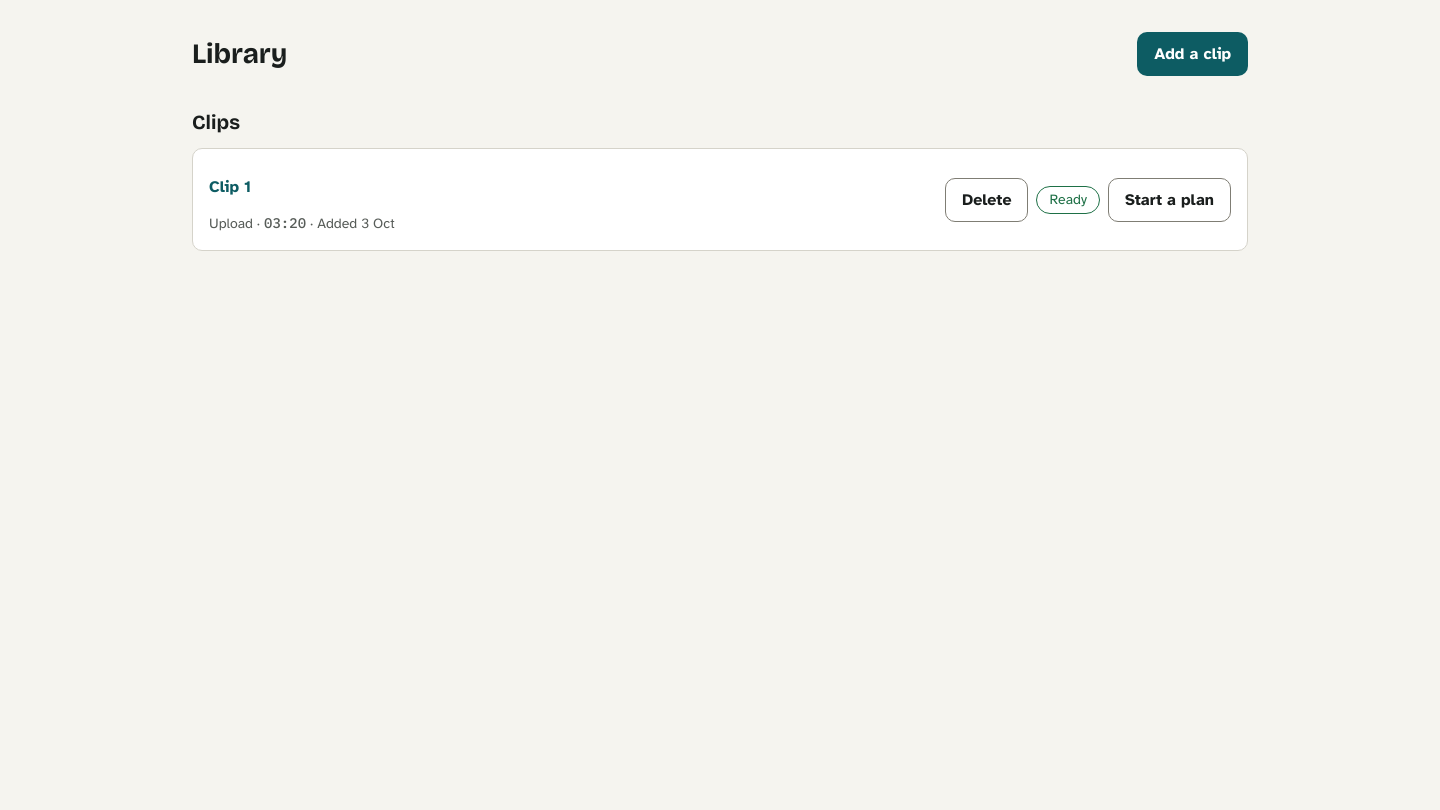
Test case: confirmed deletion hides the clip and announces background cleanup
What coordinates should you click on to do the following:
click the button with aria-label "Delete Clip 1"
I would click on:
 (987, 200)
Its box is left=945, top=178, right=1028, bottom=222.
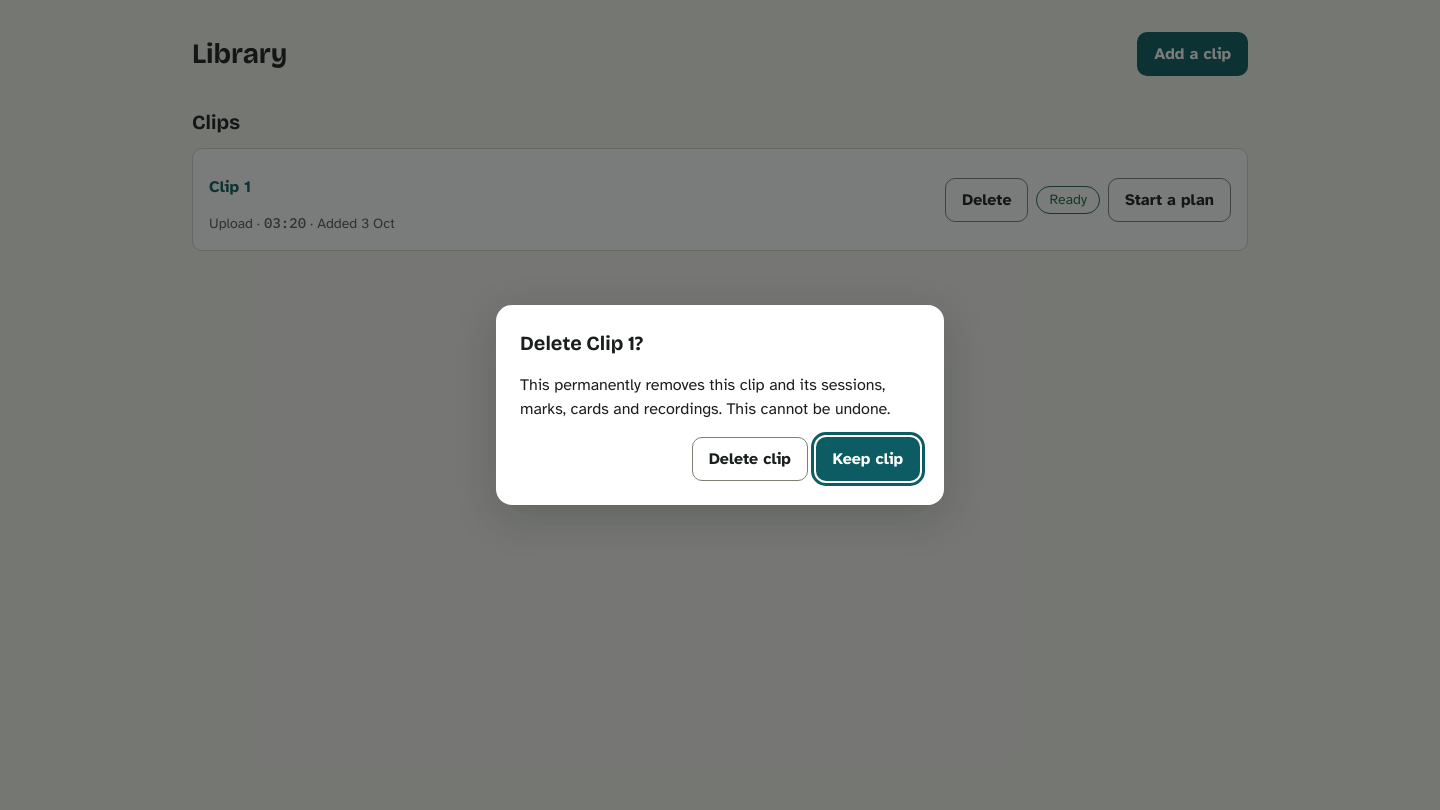
What coordinates should you click on to do the following:
click the button "Delete clip"
I would click on:
 (750, 459)
Its box is left=692, top=437, right=808, bottom=481.
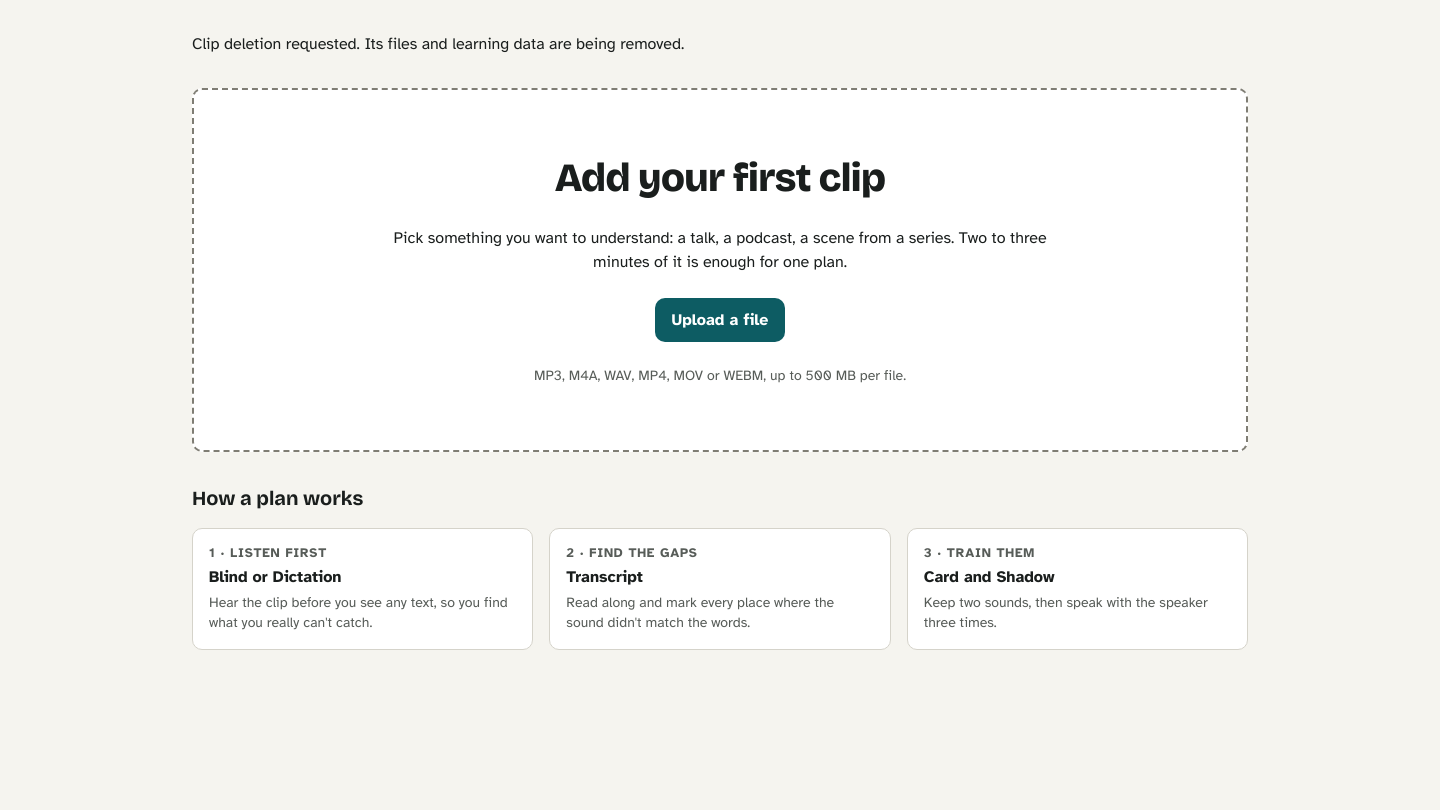
Expected: the text "Clip deletion requested. Its files and learning data are being removed." is shown, left=192, top=34, right=684, bottom=54
Expected: the heading "Add your first clip" is shown, left=555, top=154, right=885, bottom=202
